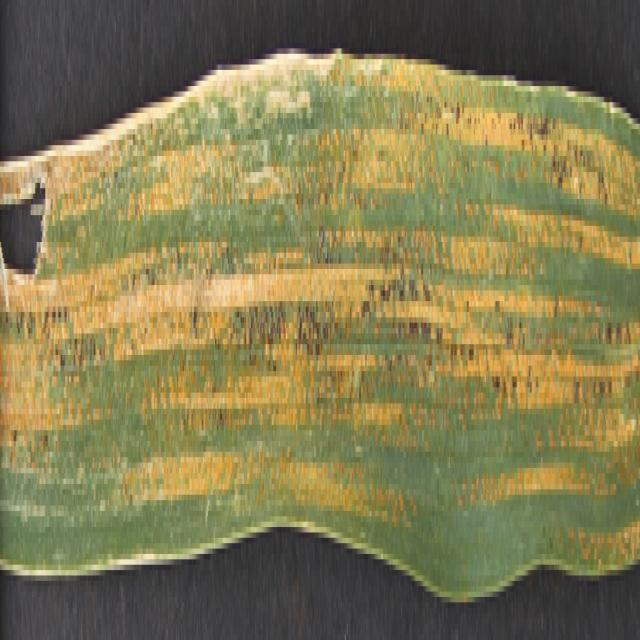leaf rust: (47, 43, 640, 565), (1, 269, 42, 586)
